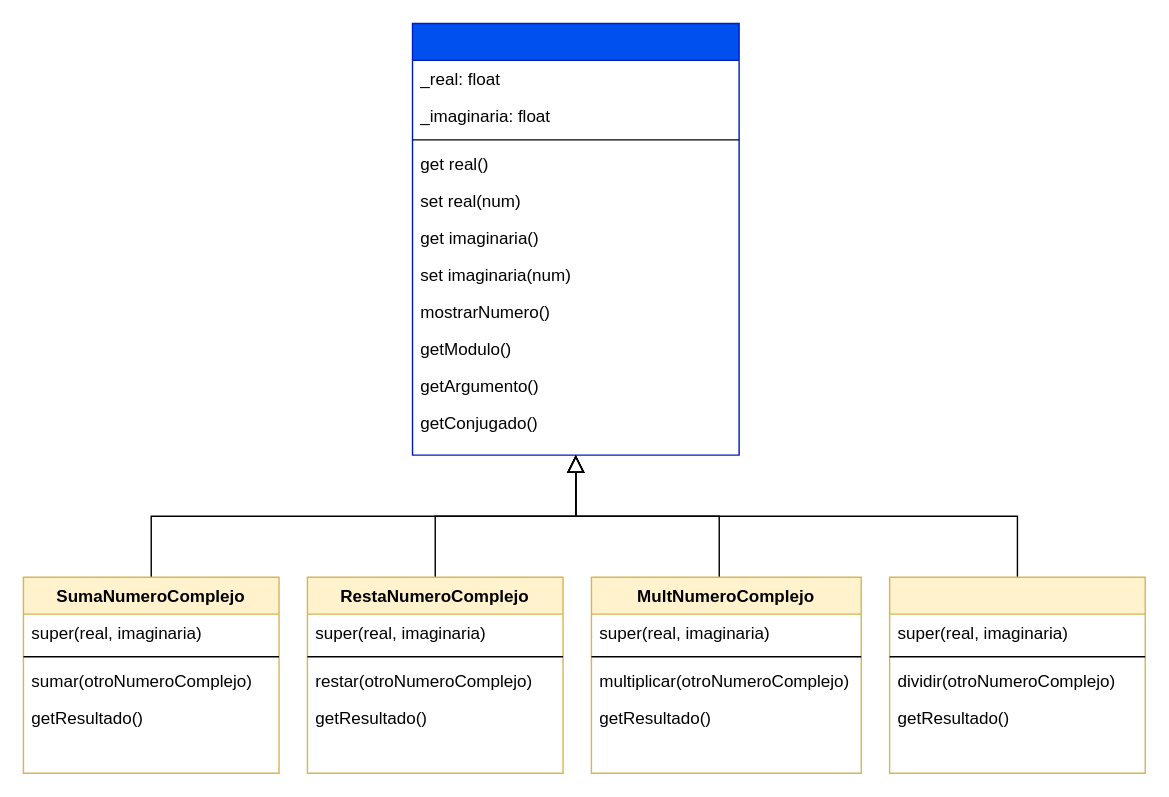
Some shapes in this 1169 by 797 pixel diagram are drawn without their labels. Here are the shapes that lost their labels. From the top down, the box of each, then its label:
(411, 22, 739, 455): NumeroComplejo
(888, 576, 1145, 773): DivisionNumeroComplejo
